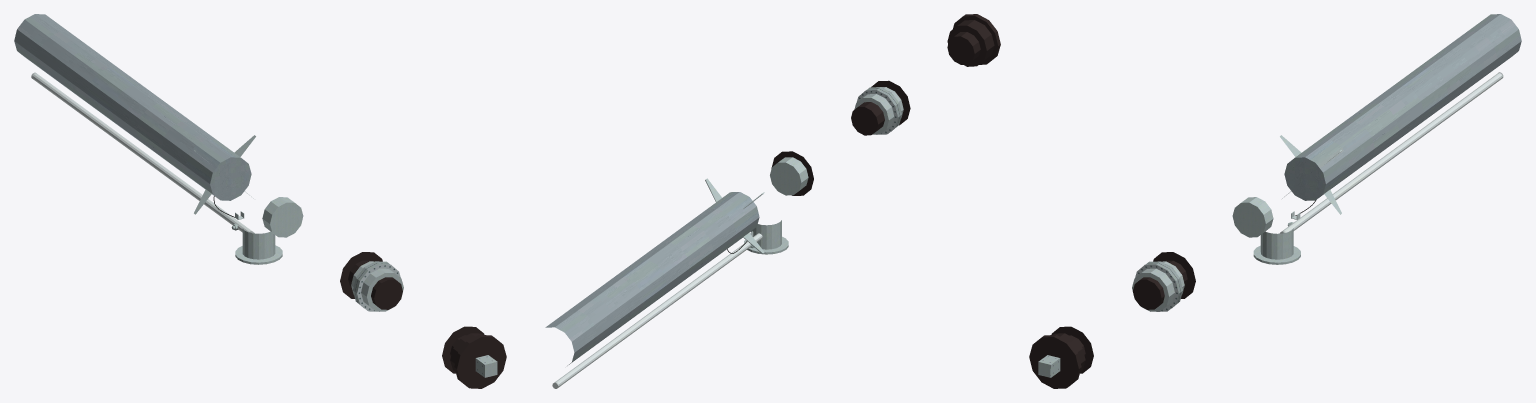
File: pt-11m00000000637420-geode.glb
3 renders of one model, left to right at view 1: azimuth 30°, elevation 25°; view 2: azimuth 150°, elevation 25°; view 3: azimuth 330°, elevation 25°, orthographic. The views are drawn at different scales.
Parts seen in each view (by area): view 1: Node; view 2: Node; view 3: Node.
Boxes of the visible parts, <box> form: Node: <box>14,14,506,388</box>; Node: <box>545,14,1000,388</box>; Node: <box>1029,14,1521,388</box>.
Size of the model in its own units: 0.4527 by 0.6149 by 5.83.
9 materials, 9 textured.
